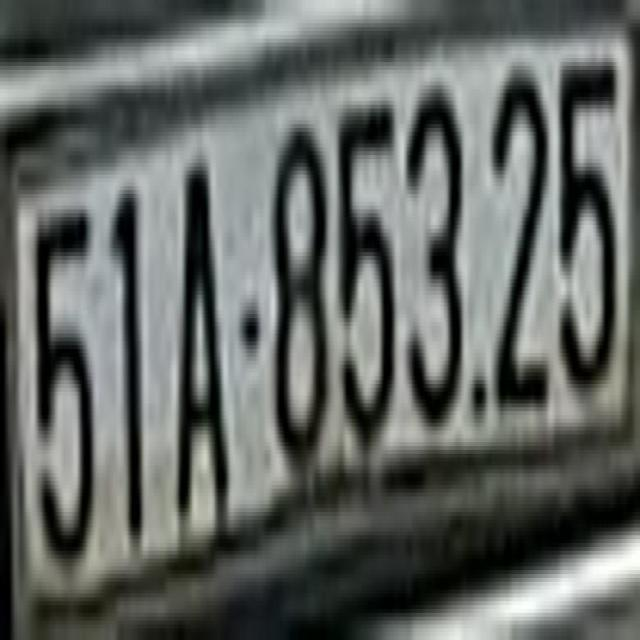1: (108, 175, 144, 562)
2: (492, 54, 553, 430)
3: (404, 81, 464, 438)
5: (33, 182, 96, 570), (558, 47, 621, 400), (336, 85, 396, 450)
8: (268, 108, 330, 466)
A: (172, 170, 230, 528)
